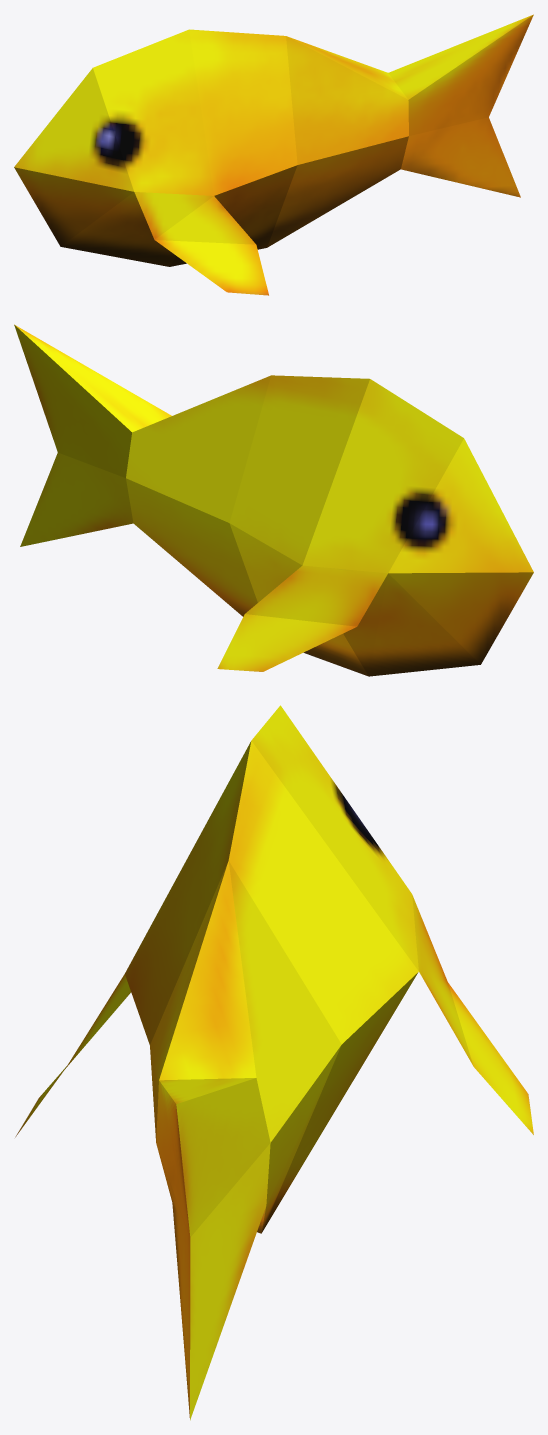
The model's file is fish1.FBX.
The picture shows the model from 3 angles, top to bottom: view 1: azimuth 30°, elevation 25°; view 2: azimuth 150°, elevation 25°; view 3: azimuth 270°, elevation 25°; orthographic projection. The views are drawn at different scales.
Parts seen in each view (by area): view 1: fish; view 2: fish; view 3: fish.
Boxes of the visible parts, bbox=[...] form: fish: bbox=[14, 14, 533, 295]; fish: bbox=[14, 324, 533, 676]; fish: bbox=[15, 705, 533, 1420].
Bounding box in the file's own units: 46.54 × 22.47 × 24.72.
1 material, 1 textured.
